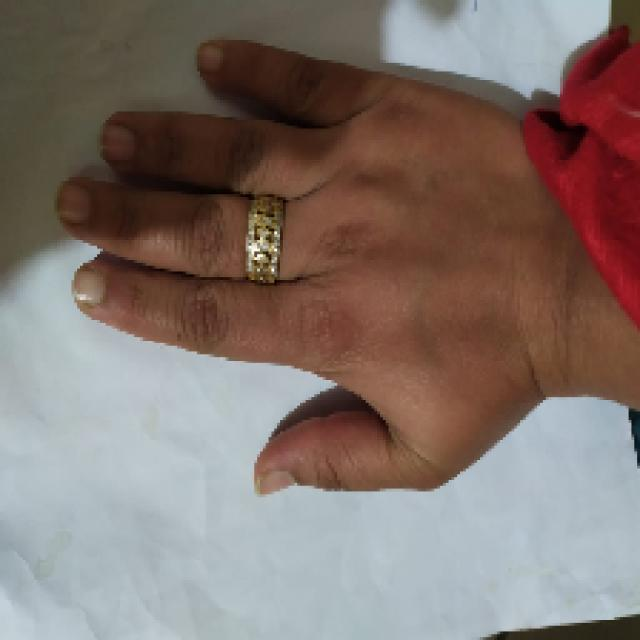Nail: (56, 180, 91, 225), (102, 125, 135, 161), (72, 270, 106, 304), (255, 470, 292, 493), (198, 44, 224, 72)
